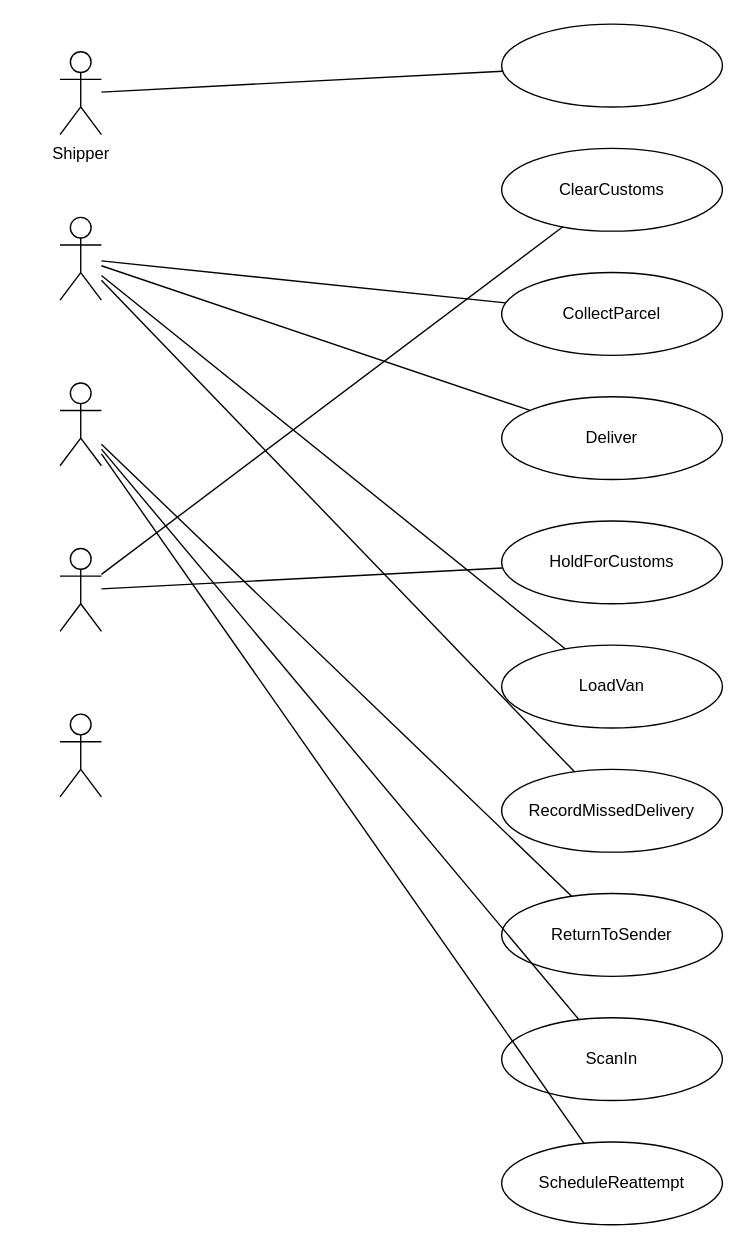
Image size: 747x1249. Some labels were removed from this diagram. The centre of each missing label's shape, as x and y in pixels:
Addressee: (x=80, y=755)
CancelBooking: (x=611, y=65)
CustomsOfficer: (x=80, y=589)
Driver: (x=80, y=258)
HubOperator: (x=80, y=424)
